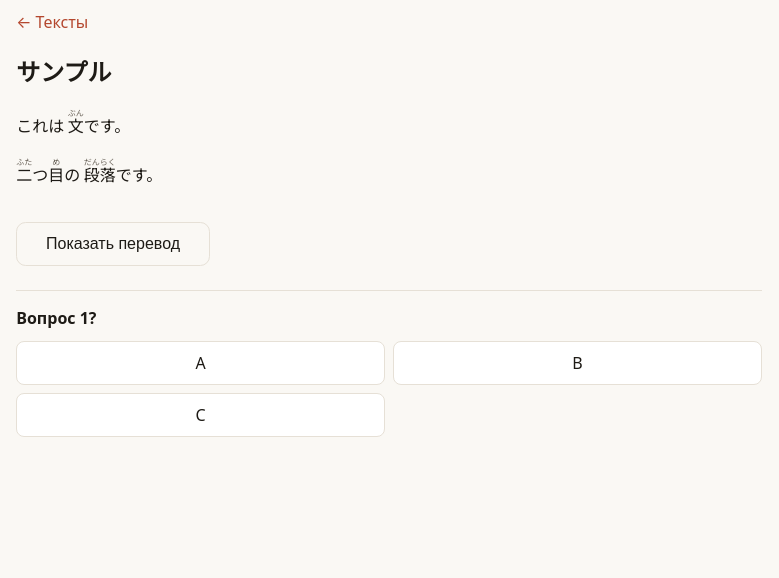
Test case: TextDetailScreen › shows a text verdict, not colour alone, after answering
Click the button "A": (201, 363) [16,341,385,385]
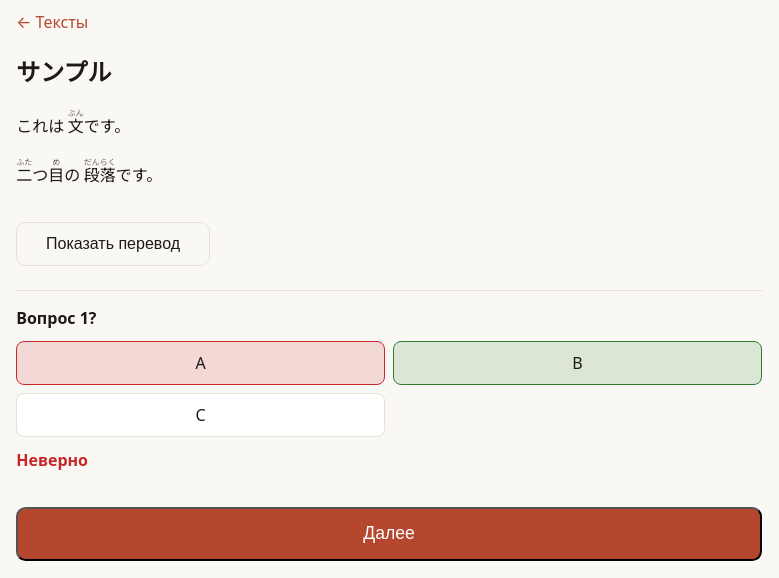
Expected: the message reads "Неверно", [16,449,88,471]
Click the button "Далее": (389, 534) [16,507,762,561]
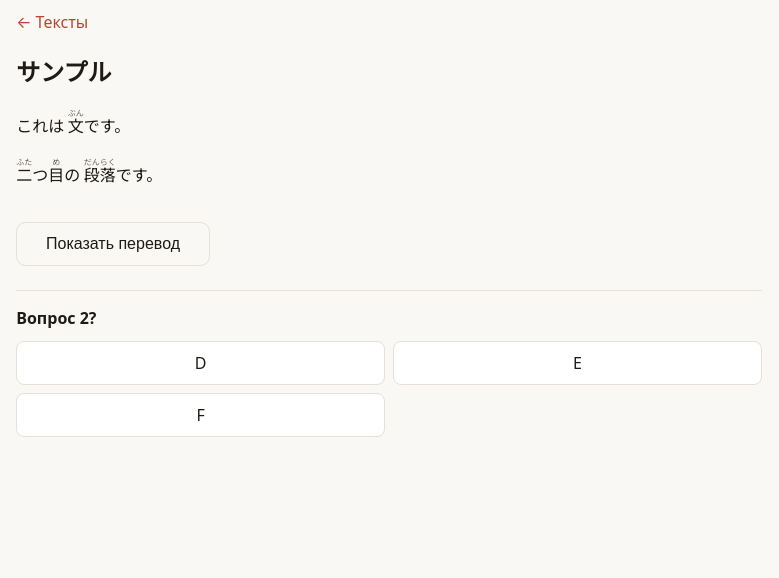
Click the button "D": (201, 363) [16,341,385,385]
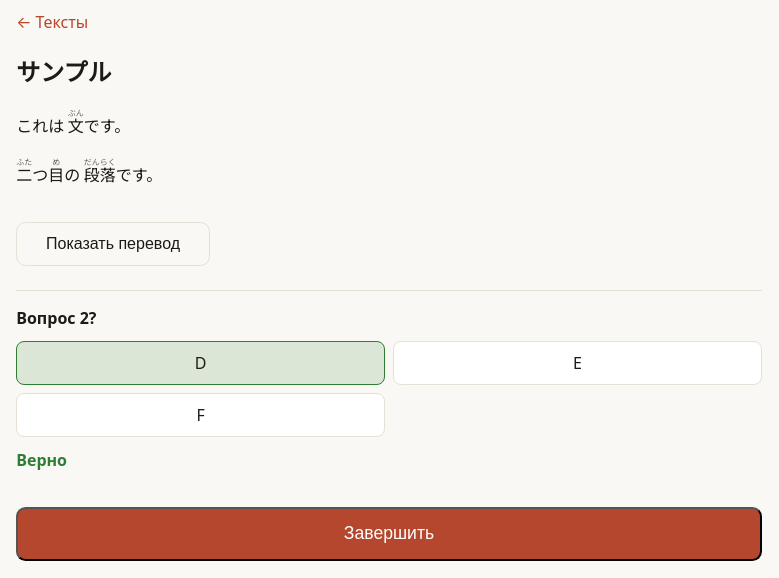
Expected: the message reads "Верно", [16,449,67,471]
